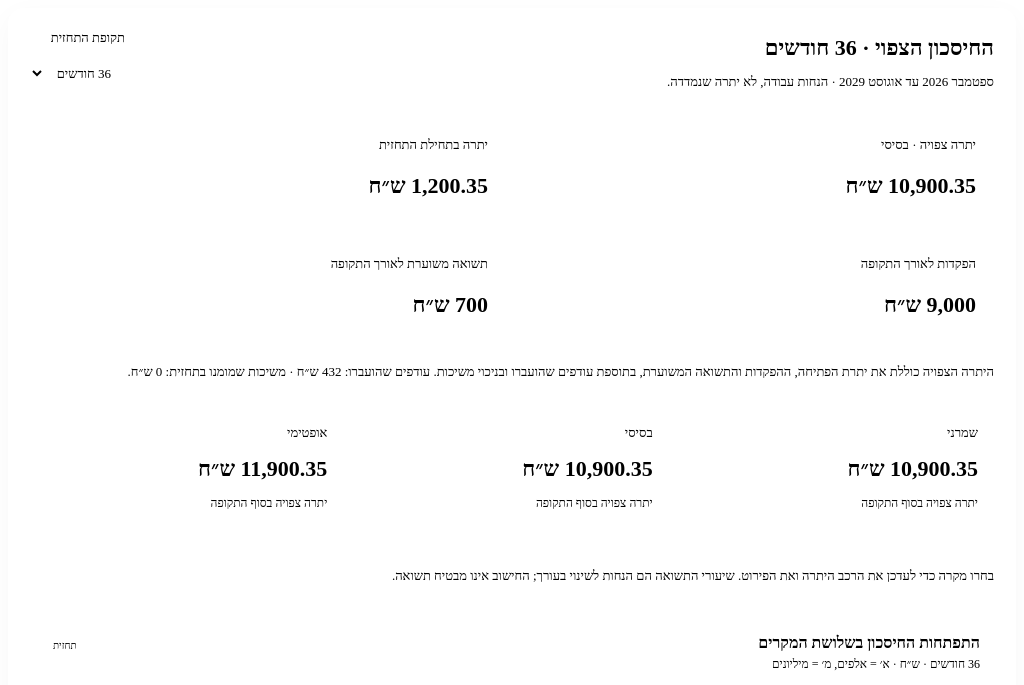
Test case: Forecast results › separates exact starting balances and cumulative deposits/returns from the ending balance
Expected: the text "1,200.35 ש״ח" is shown, [368,173,488,198]
Expected: the text "9,000 ש״ח" is shown, [884,292,976,317]
Step 1. Select "12 חודשים" in the dropdown named "אופק תחזית" → (78, 74), box [30,52,125,95]
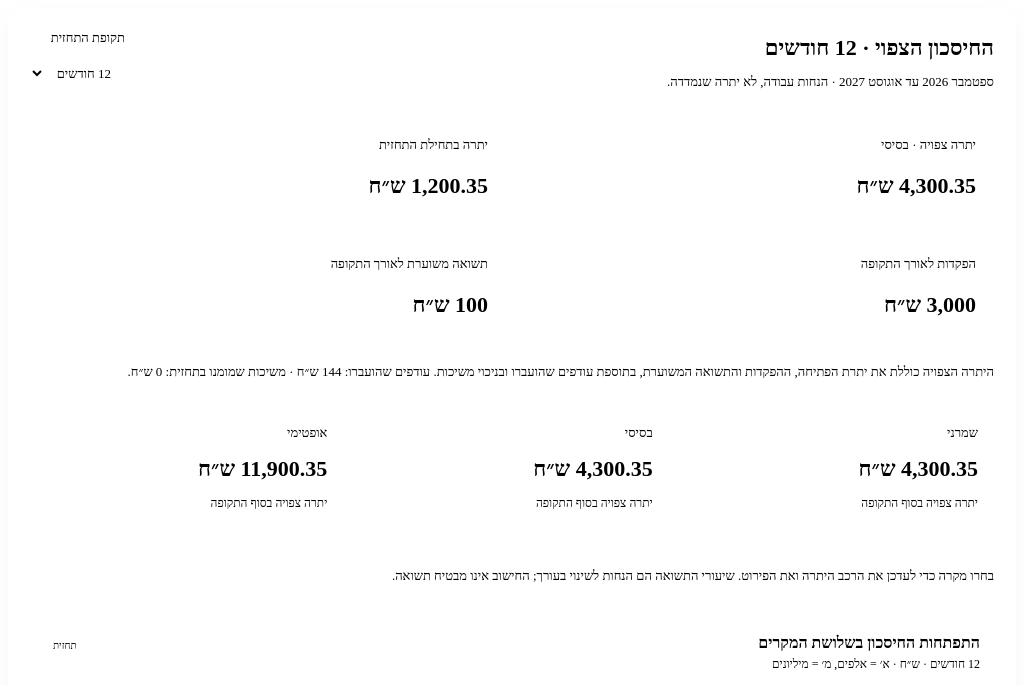
Expected: the text "3,000 ש״ח" is shown, [884,292,976,317]
Expected: the text "9,000" is gone
Expected: the text "4,300.35 ש״ח" below "יתרה צפויה ·" is shown, [856,173,976,198]
